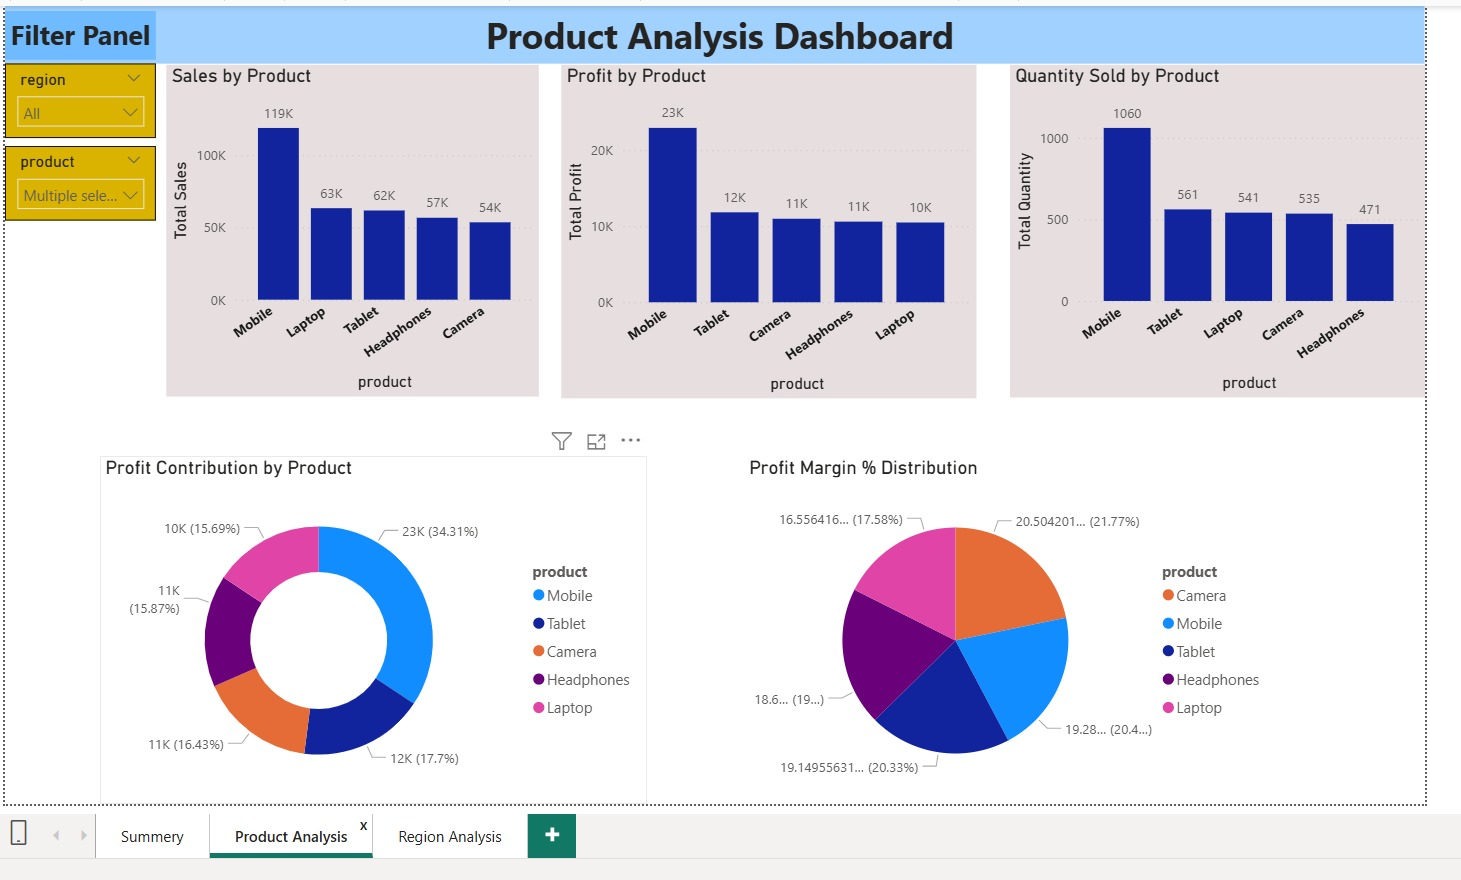

Layout of this report page (visuals, bound fields, positions):
{"tool":"powerbi","page":{"name":"Product Analysis","canvas":[1280,720],"ordinal":1},"visuals":[{"type":"textbox","box":[0,0,1280.2,52.3],"z":0},{"type":"clusteredColumnChart","title":"Sales by Product","fields":{"Category":["cleaned_sales_data.product"],"Y":["cleaned_sales_data.Total Sales"]},"box":[145.3,53.5,336,298.8],"z":1},{"type":"textbox","box":[0,4.7,136,44.2],"z":2},{"type":"slicer","fields":{"Values":["cleaned_sales_data.region"]},"box":[0,52.3,136,67.4],"z":3},{"type":"slicer","fields":{"Values":["cleaned_sales_data.product"]},"box":[0,126.7,136,67.4],"z":4},{"type":"clusteredColumnChart","title":"Profit by Product","fields":{"Category":["cleaned_sales_data.product"],"Y":["cleaned_sales_data.Total Profit"]},"box":[501.2,53.5,374.4,301.2],"z":5},{"type":"clusteredColumnChart","title":"Quantity Sold by Product","fields":{"Category":["cleaned_sales_data.product"],"Y":["cleaned_sales_data.Total Quantity"]},"box":[905.8,53.5,374.4,300],"z":6},{"type":"donutChart","title":"Profit Contribution by Product","fields":{"Category":["cleaned_sales_data.product"],"Y":["cleaned_sales_data.Total Profit"]},"box":[86,405.8,491.9,314],"z":7},{"type":"pieChart","title":"Profit Margin % Distribution","fields":{"Category":["cleaned_sales_data.product"],"Y":["cleaned_sales_data.Profit Margin %"]},"box":[666.3,405.8,479.1,314],"z":8}]}

Visuals, with their boxes on the page's 1280x720 design canvas (x1, y1, x2, y2). These are canvas units, not pixel positions in the 1461x880 screenshot, which may show the page scaled, cropped or inside an application window:
textbox: bbox=(0, 0, 1280, 52)
"Sales by Product" clusteredColumnChart: bbox=(145, 54, 481, 352)
textbox: bbox=(0, 5, 136, 49)
slicer - cleaned_sales_data.region: bbox=(0, 52, 136, 120)
slicer - cleaned_sales_data.product: bbox=(0, 127, 136, 194)
"Profit by Product" clusteredColumnChart: bbox=(501, 54, 876, 355)
"Quantity Sold by Product" clusteredColumnChart: bbox=(906, 54, 1280, 354)
"Profit Contribution by Product" donutChart: bbox=(86, 406, 578, 720)
"Profit Margin % Distribution" pieChart: bbox=(666, 406, 1145, 720)
